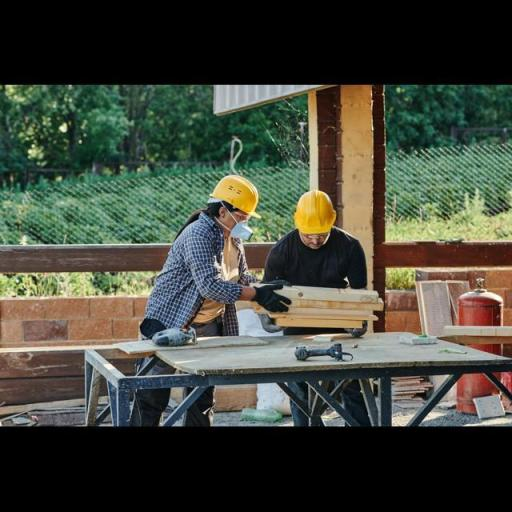Person: (267, 182, 404, 434), (130, 172, 266, 424)
gloves: (340, 317, 378, 341), (252, 286, 290, 310), (250, 314, 288, 338), (265, 278, 297, 288)
goggles: (290, 224, 336, 242)
helmet: (285, 188, 348, 236), (202, 171, 264, 219)
none: (140, 212, 256, 334), (262, 227, 378, 348)
